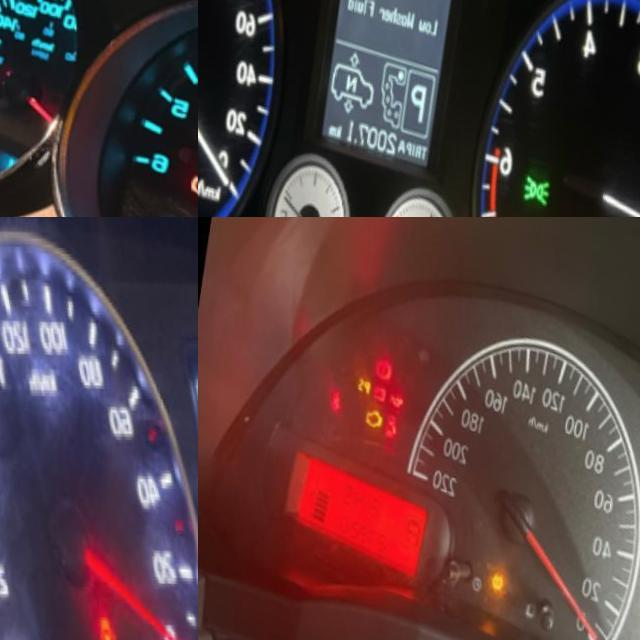Doors: (91, 601, 122, 640), (380, 402, 399, 437)
